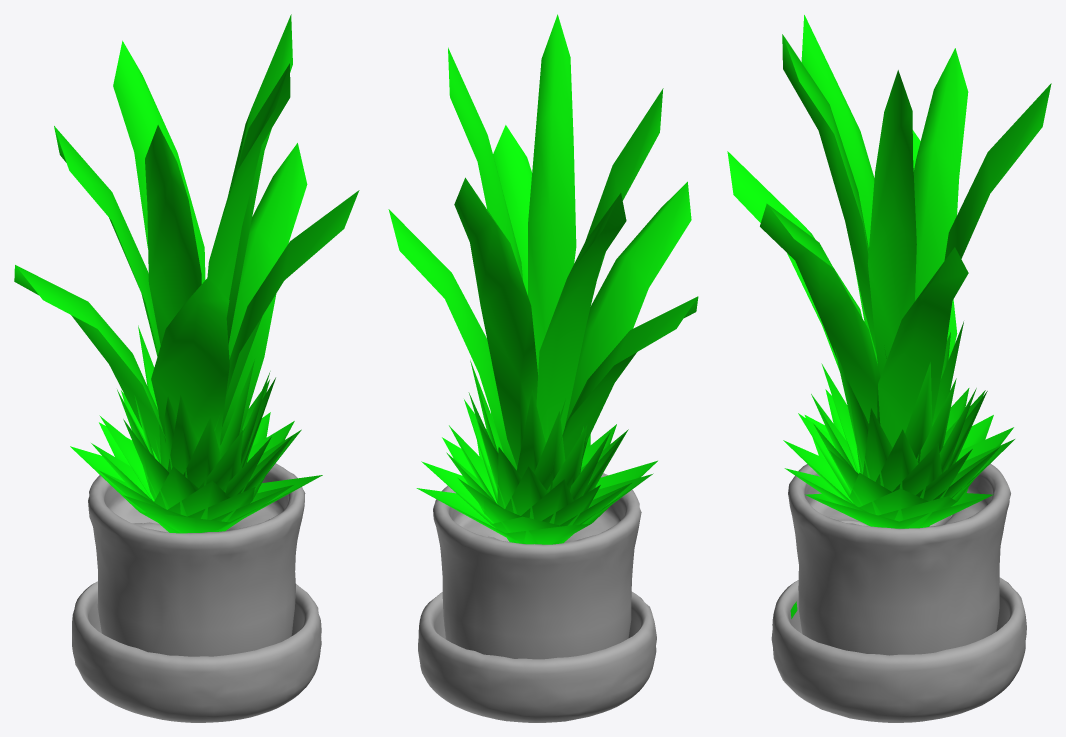
Rendered from Low_Poly_Plant.fbx.
3 renders of one model, left to right at view 1: azimuth 30°, elevation 25°; view 2: azimuth 150°, elevation 25°; view 3: azimuth 270°, elevation 25°, orthographic. The views are drawn at different scales.
Parts seen in each view (by area): view 1: Low_Poly_Plant; view 2: Low_Poly_Plant; view 3: Low_Poly_Plant.
Boxes of the visible parts, left/top/right/bottom form: Low_Poly_Plant: left=14, top=14, right=359, bottom=722; Low_Poly_Plant: left=388, top=14, right=698, bottom=722; Low_Poly_Plant: left=727, top=15, right=1051, bottom=722.
Size of the model in its own units: 285 by 588 by 259.
